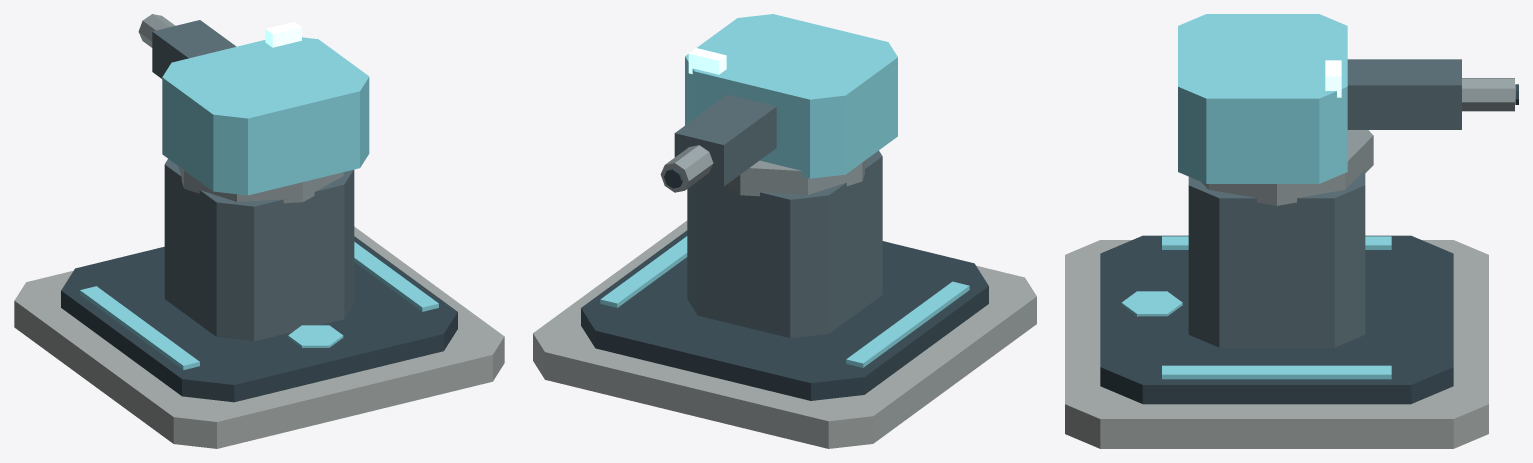
The model's file is turret-low.glb.
3 views of the same model, side by side, from view 1: azimuth 30°, elevation 25°; view 2: azimuth 150°, elevation 25°; view 3: azimuth 270°, elevation 25° (orthographic). The views are drawn at different scales.
Visible parts, largest first — view 1: asset_turret__FP_Baked, turret_armour, asset_turret__FP_Team, turret__FP_Baked, Hexagon, sensor; view 2: asset_turret__FP_Baked, turret_armour, turret__FP_Baked, asset_turret__FP_Team, sensor; view 3: asset_turret__FP_Baked, turret_armour, turret__FP_Baked, asset_turret__FP_Team, Hexagon, sensor.
Boxes of the visible parts, x1=… form: asset_turret__FP_Baked: x1=14, y1=159, x2=504, y2=448; turret_armour: x1=162, y1=37, x2=369, y2=195; asset_turret__FP_Team: x1=80, y1=242, x2=438, y2=369; turret__FP_Baked: x1=138, y1=14, x2=236, y2=78; Hexagon: x1=288, y1=325, x2=343, y2=347; sensor: x1=265, y1=22, x2=301, y2=47; asset_turret__FP_Baked: x1=533, y1=150, x2=1036, y2=448; turret_armour: x1=685, y1=14, x2=897, y2=178; turret__FP_Baked: x1=660, y1=94, x2=776, y2=192; asset_turret__FP_Team: x1=600, y1=236, x2=969, y2=367; sensor: x1=688, y1=48, x2=726, y2=74; asset_turret__FP_Baked: x1=1065, y1=130, x2=1488, y2=448; turret_armour: x1=1178, y1=14, x2=1347, y2=183; turret__FP_Baked: x1=1347, y1=59, x2=1518, y2=129; asset_turret__FP_Team: x1=1162, y1=236, x2=1391, y2=379; Hexagon: x1=1121, y1=291, x2=1182, y2=316; sensor: x1=1325, y1=60, x2=1341, y2=97.
Size of the model in its own units: 1.8 by 1.49 by 1.93.
